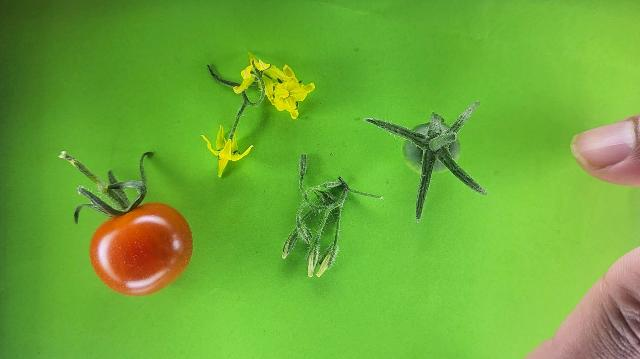Anthesis: (259, 60, 314, 118), (200, 124, 253, 178), (235, 50, 272, 95)
Flower Bud: (282, 228, 299, 260), (316, 255, 330, 278), (308, 255, 315, 278)
Fruit Maturation: (401, 120, 460, 174)
Fully Grown: (88, 201, 196, 299)
